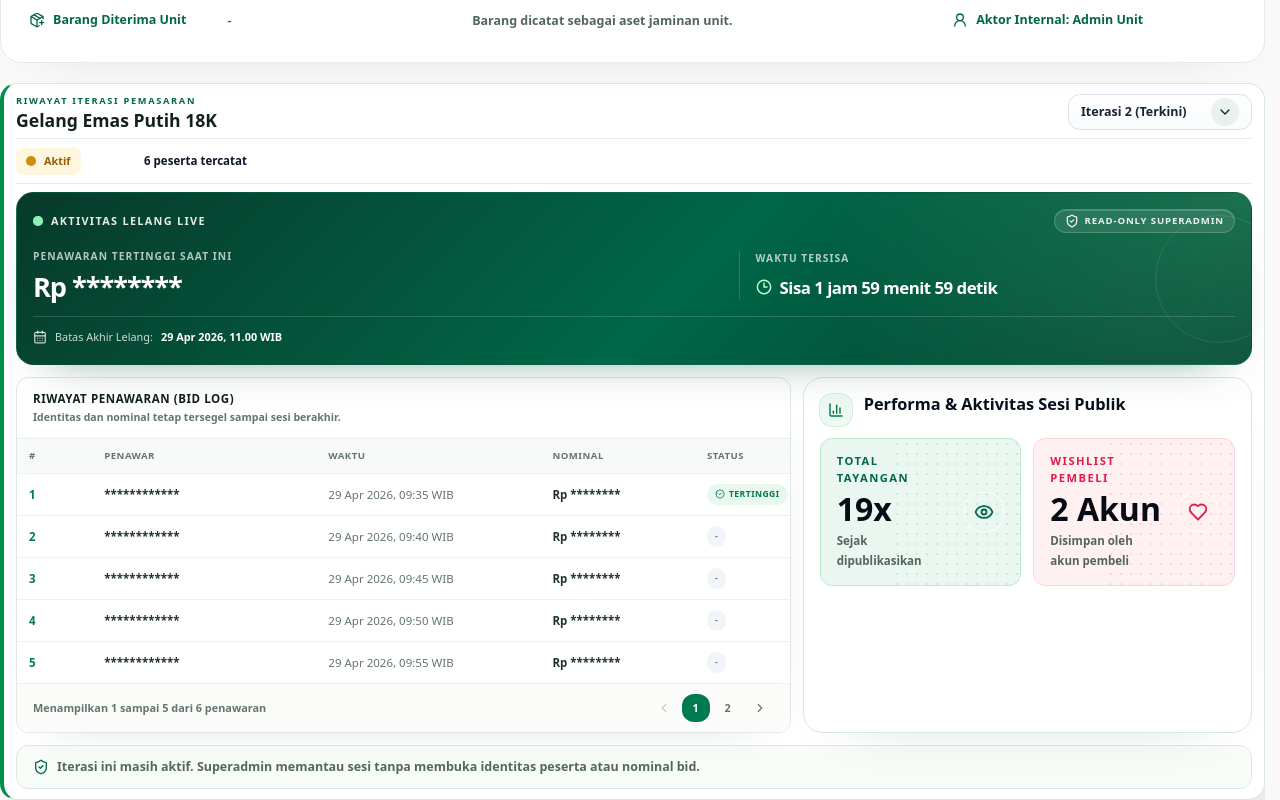
it: superadmin pages › renders the active Vickrey iteration as a compact read-only live monitor
(page scrolled)
Expected: the text "Riwayat Iterasi Pemasaran" is shown, [16,94,217,108]
Expected: the text "Aktivitas Lelang Live" is shown, [51,213,206,229]
Click the button named "Halaman penawaran berikutnya" at x=760, y=708, box [746,694,774,722]
(page scrolled)
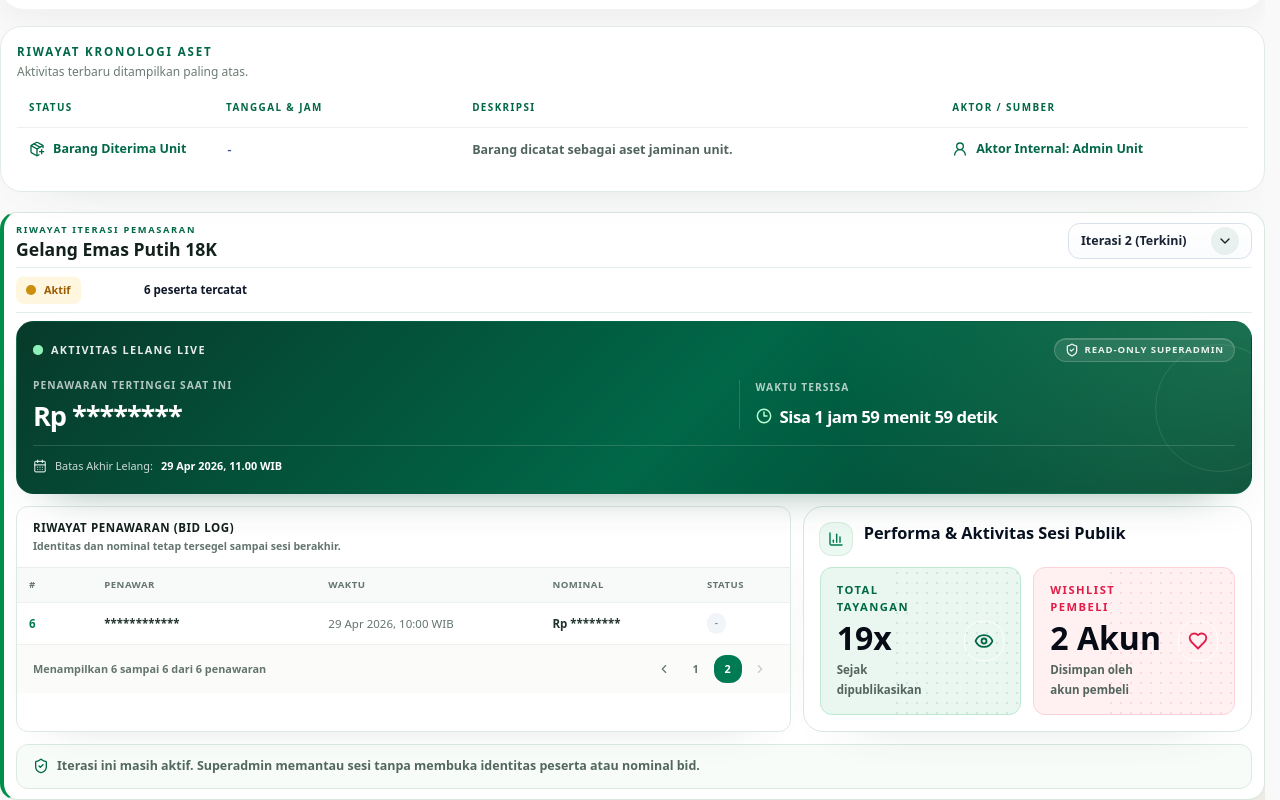
Result: the text "Menampilkan 6 sampai 6 dari 6 penawaran" is shown at [33,661,266,677]
Result: the text "29 Apr 2026, 10:00 WIB" is shown at [318,602,542,644]
Result: the text "29 Apr 2026, 09:35 WIB" is gone
